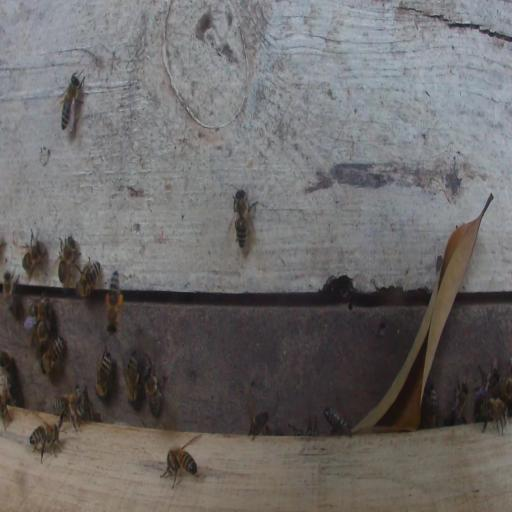nonpollenbee: (163, 444, 198, 489), (55, 387, 85, 433), (29, 422, 62, 463), (21, 228, 47, 278), (232, 186, 251, 251), (143, 359, 164, 417), (60, 73, 81, 131), (57, 234, 80, 284), (478, 398, 509, 435), (76, 257, 102, 298), (474, 365, 499, 404), (124, 350, 141, 406), (41, 336, 65, 375), (95, 346, 112, 399), (24, 298, 49, 334), (449, 379, 468, 424), (323, 406, 352, 435), (2, 270, 20, 316), (33, 304, 52, 347), (248, 409, 270, 441), (426, 384, 439, 422), (0, 347, 14, 381), (0, 388, 11, 431), (503, 362, 512, 402)
pollenbee: (104, 270, 124, 336)
